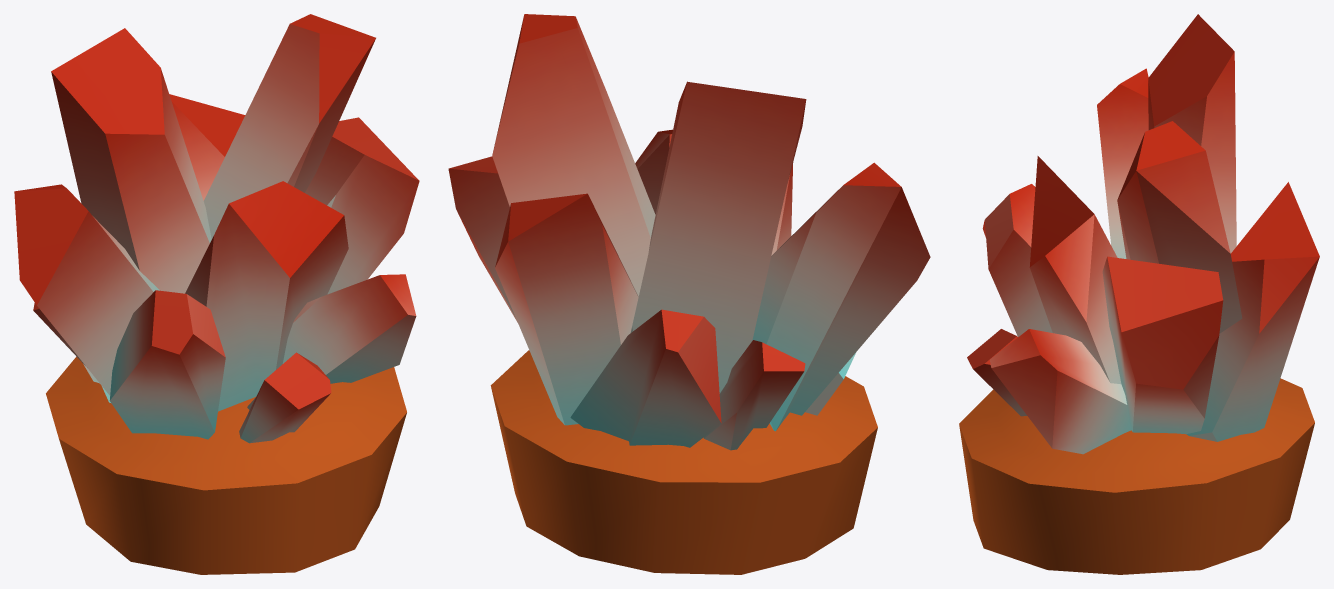
File: Crystals.fbx
3 renders of one model, left to right at view 1: azimuth 30°, elevation 25°; view 2: azimuth 150°, elevation 25°; view 3: azimuth 270°, elevation 25°, orthographic. The views are drawn at different scales.
Parts seen in each view (by area): view 1: Crystals_ground, Crystals.005, Crystals.002, Crystals.004, Crystals.006, Crystals.007, Crystals.003, Crystals.001, Crystals.008, Crystals.009; view 2: Crystals_ground, Crystals.005, Crystals.006, Crystals.004, Crystals.009, Crystals.010, Crystals.011, Crystals.003, Crystals.002, Crystals.007; view 3: Crystals_ground, Crystals.003, Crystals.009, Crystals.004, Crystals.002, Crystals.001, Crystals.005, Crystals.007, Crystals.006, Crystals.008.
Boxes of the visible parts, left/top/right/bottom form: Crystals_ground: left=46, top=357, right=406, bottom=574; Crystals.005: left=51, top=28, right=211, bottom=293; Crystals.002: left=185, top=181, right=348, bottom=411; Crystals.004: left=203, top=14, right=375, bottom=239; Crystals.006: left=14, top=184, right=159, bottom=402; Crystals.007: left=109, top=290, right=225, bottom=439; Crystals.003: left=305, top=117, right=419, bottom=294; Crystals.001: left=282, top=274, right=416, bottom=383; Crystals.008: left=239, top=352, right=331, bottom=443; Crystals.009: left=169, top=94, right=245, bottom=200; Crystals_ground: left=490, top=350, right=877, bottom=574; Crystals.005: left=630, top=81, right=806, bottom=393; Crystals.006: left=752, top=162, right=930, bottom=431; Crystals.004: left=492, top=14, right=655, bottom=296; Crystals.009: left=495, top=193, right=638, bottom=425; Crystals.010: left=570, top=309, right=721, bottom=447; Crystals.011: left=703, top=340, right=805, bottom=450; Crystals.003: left=448, top=156, right=517, bottom=322; Crystals.002: left=635, top=129, right=793, bottom=255; Crystals.007: left=805, top=353, right=855, bottom=415; Crystals_ground: left=959, top=378, right=1314, bottom=574; Crystals.003: left=1102, top=256, right=1223, bottom=434; Crystals.009: left=1186, top=182, right=1319, bottom=441; Crystals.004: left=1117, top=121, right=1242, bottom=333; Crystals.002: left=1029, top=156, right=1121, bottom=384; Crystals.001: left=989, top=329, right=1131, bottom=454; Crystals.005: left=1148, top=14, right=1236, bottom=253; Crystals.007: left=982, top=184, right=1052, bottom=336; Crystals.006: left=1097, top=68, right=1148, bottom=258; Crystals.008: left=967, top=329, right=1026, bottom=416.
Bounding box in the file's own units: 45.35 × 49.21 × 35.62.
